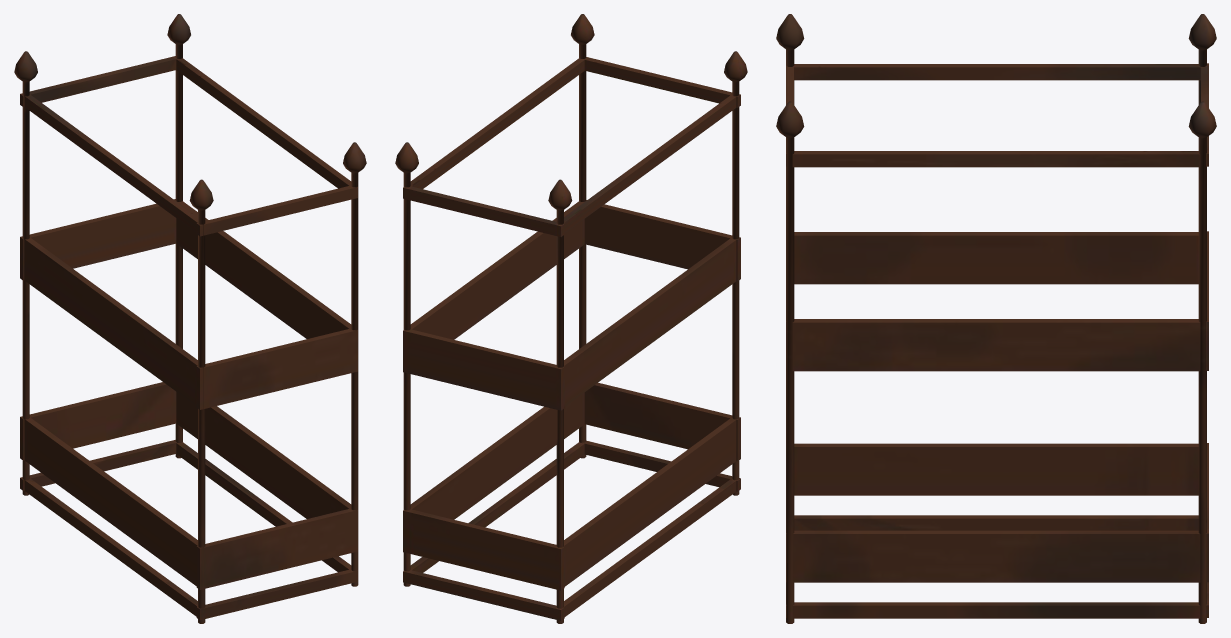
Rendered from bed-frame.glb.
3 views of the same model, side by side, from view 1: azimuth 30°, elevation 25°; view 2: azimuth 150°, elevation 25°; view 3: azimuth 270°, elevation 25° (orthographic). The views are drawn at different scales.
Visible parts, largest first — view 1: bed_frame.003, bed_frame.002; view 2: bed_frame.003, bed_frame.002; view 3: bed_frame.003, bed_frame.002.
Boxes of the visible parts, x1,y1,x2,y2 form: bed_frame.003: [20, 56, 357, 620]; bed_frame.002: [14, 14, 366, 623]; bed_frame.003: [403, 57, 740, 620]; bed_frame.002: [395, 14, 747, 623]; bed_frame.003: [786, 63, 1208, 618]; bed_frame.002: [776, 14, 1216, 623].
Bounding box in the file's own units: 1.14 × 2.82 × 2.17.
1 material, 1 textured.
